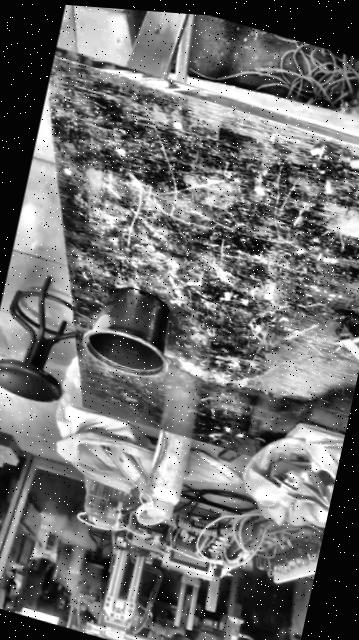pot: (78, 277, 178, 384)
